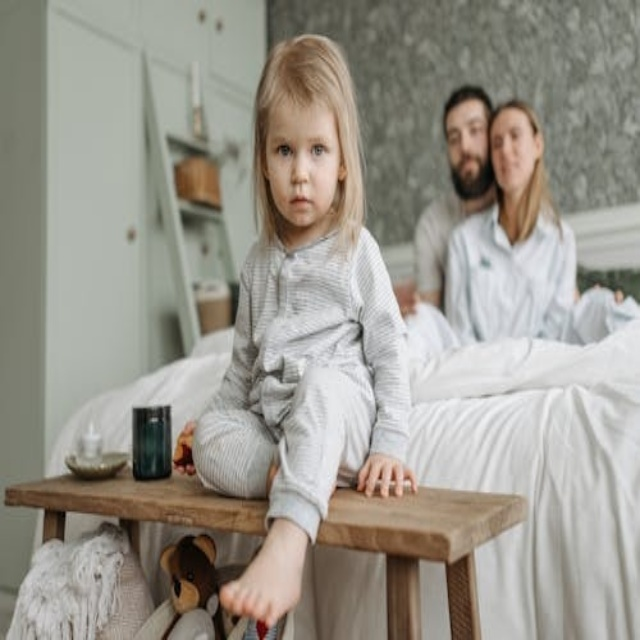Sin_gafas: (268, 128, 334, 169), (443, 111, 485, 136), (494, 123, 526, 151)
Sin_guantes: (351, 437, 422, 506)
Sin_mascara: (278, 190, 320, 224), (449, 153, 484, 180), (497, 155, 524, 184)
